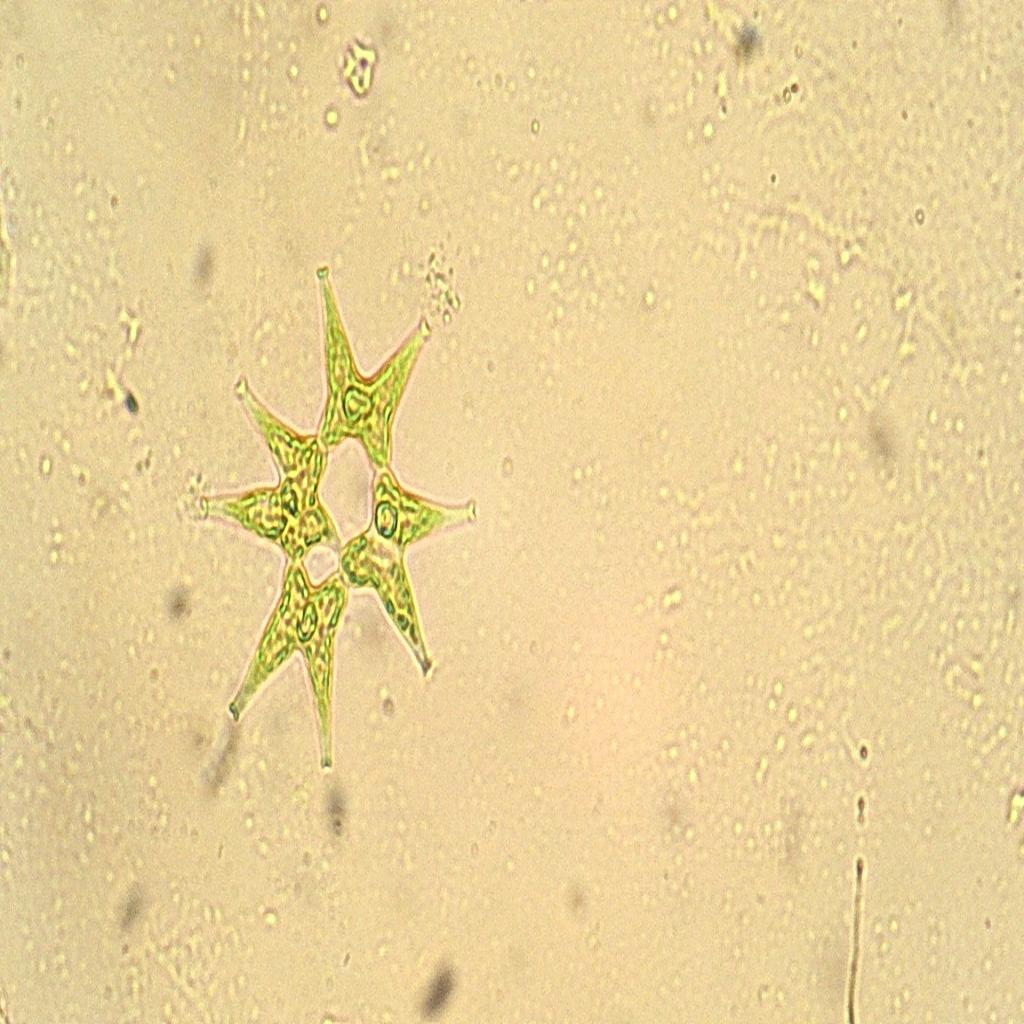Pediastrum_CF: (189, 256, 499, 788)
